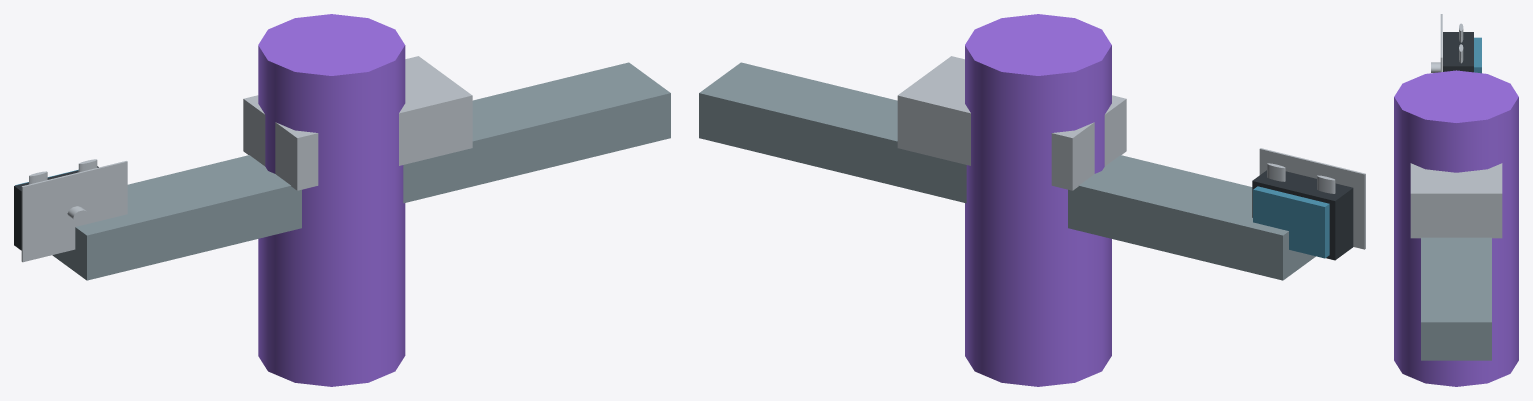
3 renders of one model, left to right at view 1: azimuth 30°, elevation 25°; view 2: azimuth 150°, elevation 25°; view 3: azimuth 270°, elevation 25°, orthographic. The views are drawn at different scales.
Parts seen in each view (by area): view 1: visualJoint, g0001, g0, g1, g0002; view 2: visualJoint, g0001, g0, g3, g0002, g1; view 3: visualJoint, g0001, g0, g0002, g3, g1.
Boxes of the visible parts, left/top/right/bottom form: visualJoint: left=258, top=14, right=405, bottom=386; g0001: left=52, top=62, right=670, bottom=280; g0: left=243, top=56, right=472, bottom=190; g1: left=21, top=161, right=127, bottom=262; g0002: left=14, top=166, right=98, bottom=250; visualJoint: left=965, top=14, right=1111, bottom=386; g0001: left=699, top=62, right=1315, bottom=280; g0: left=897, top=56, right=1126, bottom=190; g3: left=1253, top=186, right=1329, bottom=258; g0002: left=1252, top=170, right=1353, bottom=260; g1: left=1259, top=148, right=1365, bottom=249; visualJoint: left=1394, top=70, right=1518, bottom=386; g0001: left=1421, top=237, right=1491, bottom=360; g0: left=1410, top=163, right=1502, bottom=238; g0002: left=1443, top=32, right=1473, bottom=72; g3: left=1474, top=37, right=1481, bottom=73; g1: left=1440, top=14, right=1442, bottom=71.
Bounding box in the file's own units: 1.5 × 0.7 × 0.3.
